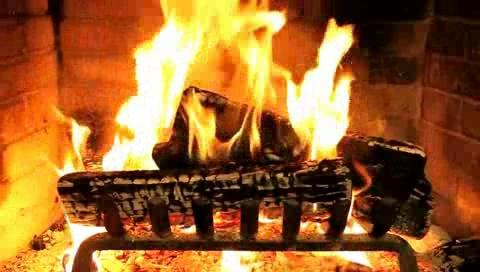fire: (24, 0, 480, 259)
